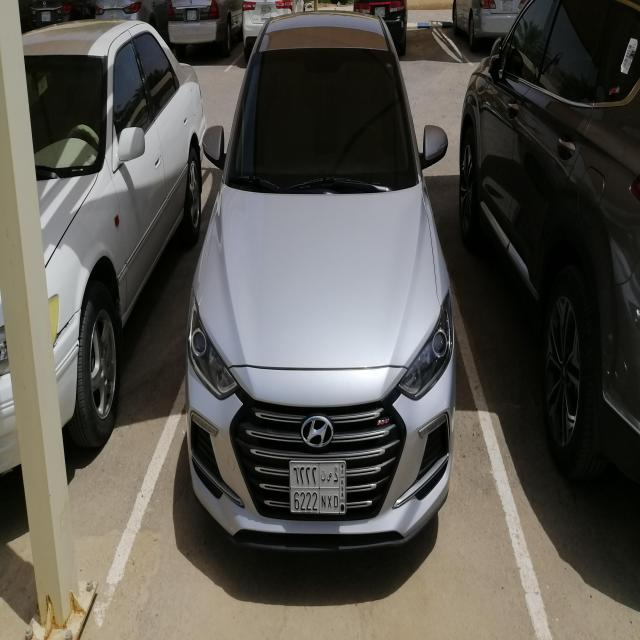license_plate: (289, 458, 347, 514), (502, 0, 513, 12), (261, 8, 271, 20), (187, 10, 197, 21), (375, 7, 385, 18), (109, 9, 119, 20), (42, 10, 51, 22)
